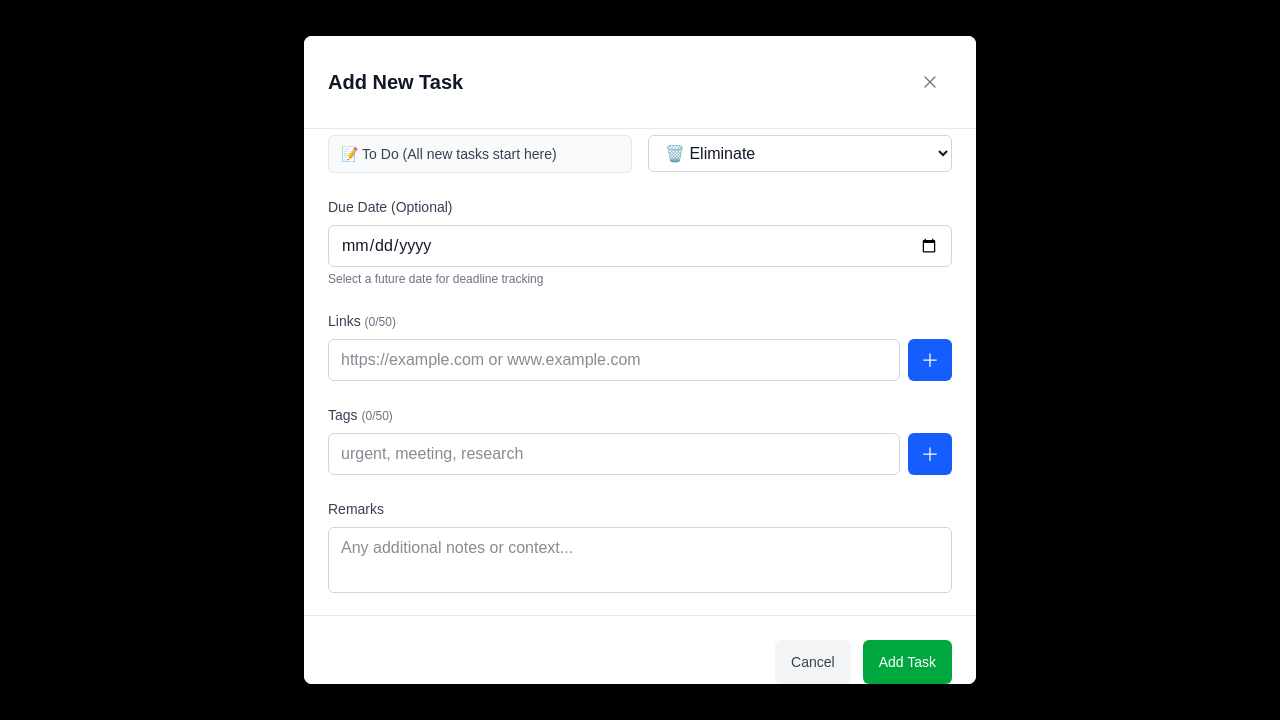
Scenario: AddTaskModal - Form Validation › Link Management › prevents duplicate links
The image size is (1280, 720).
(page scrolled)
# Add first link
Type "https://duplicate.com" into the field with placeholder "https://example.com or www.example.com" at (614, 360), box x1=328 y1=339 x2=900 y2=381
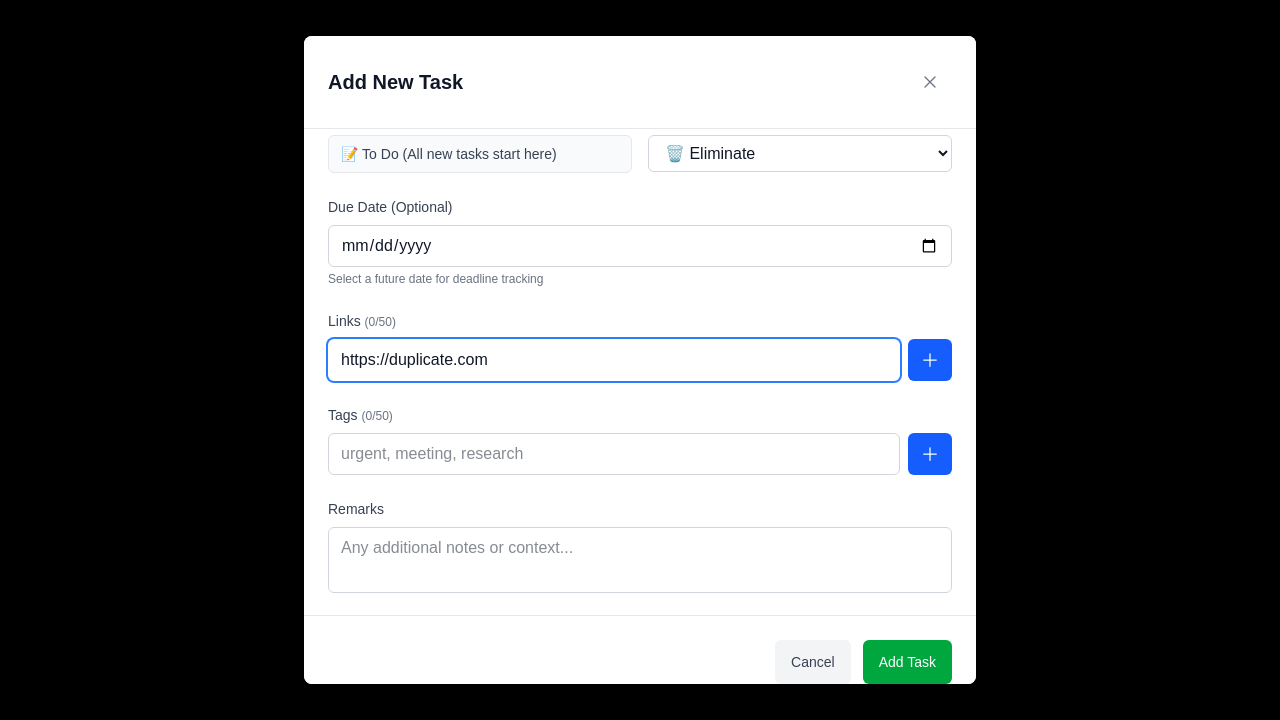
Click the button named "Add link to task" at (930, 360), box x1=908 y1=339 x2=952 y2=381
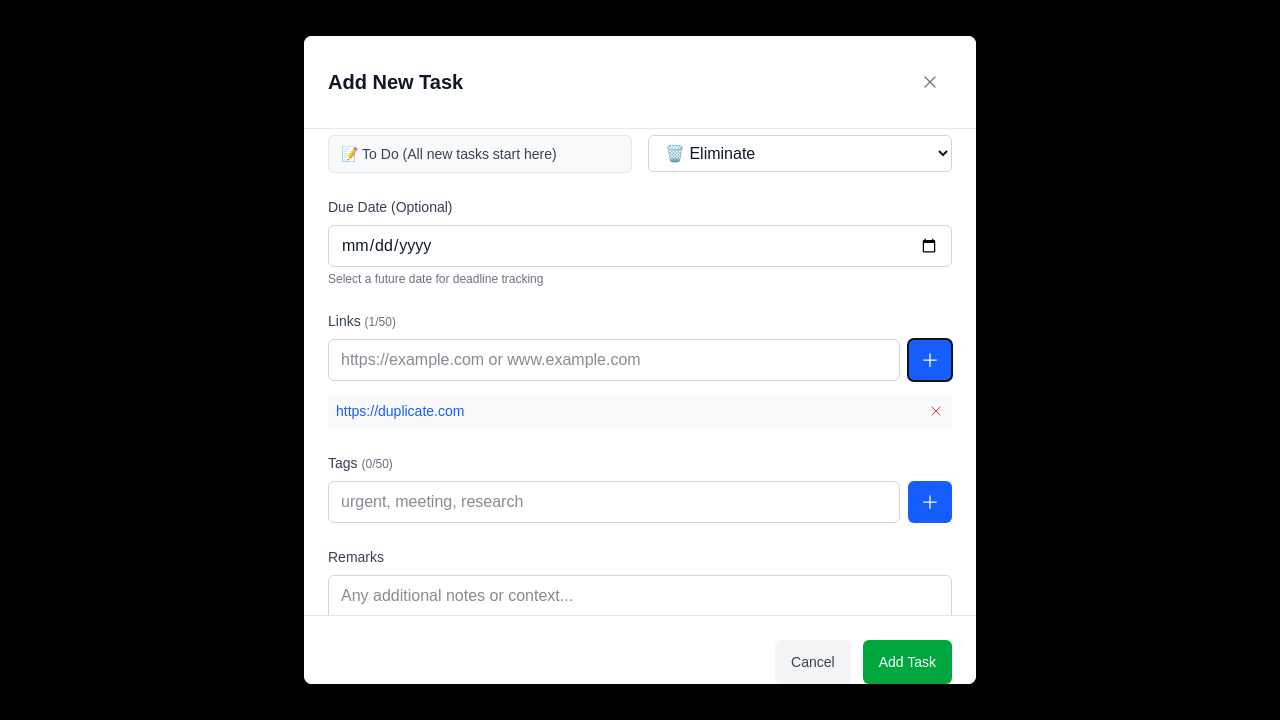
# Try to add same link
Type "https://duplicate.com" into the field with placeholder "https://example.com or www.example.com" at (614, 360), box x1=328 y1=339 x2=900 y2=381
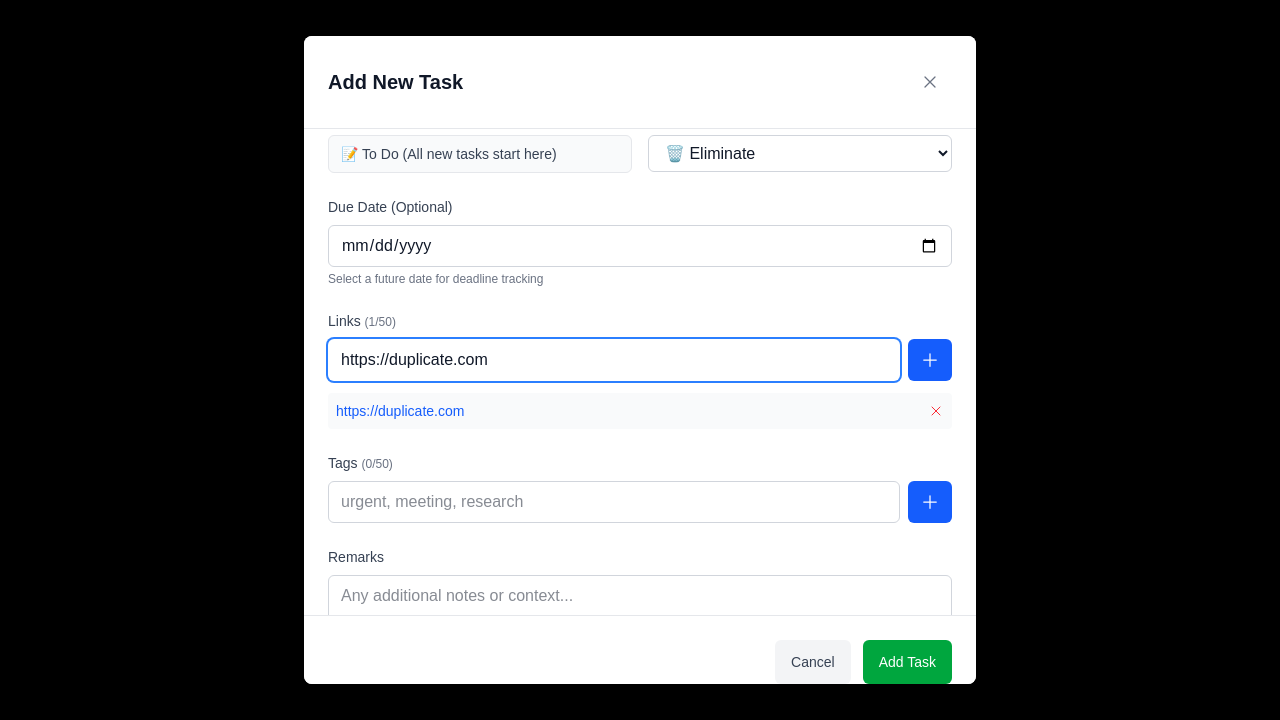
Click the button named "Add link to task" at (930, 360), box x1=908 y1=339 x2=952 y2=381
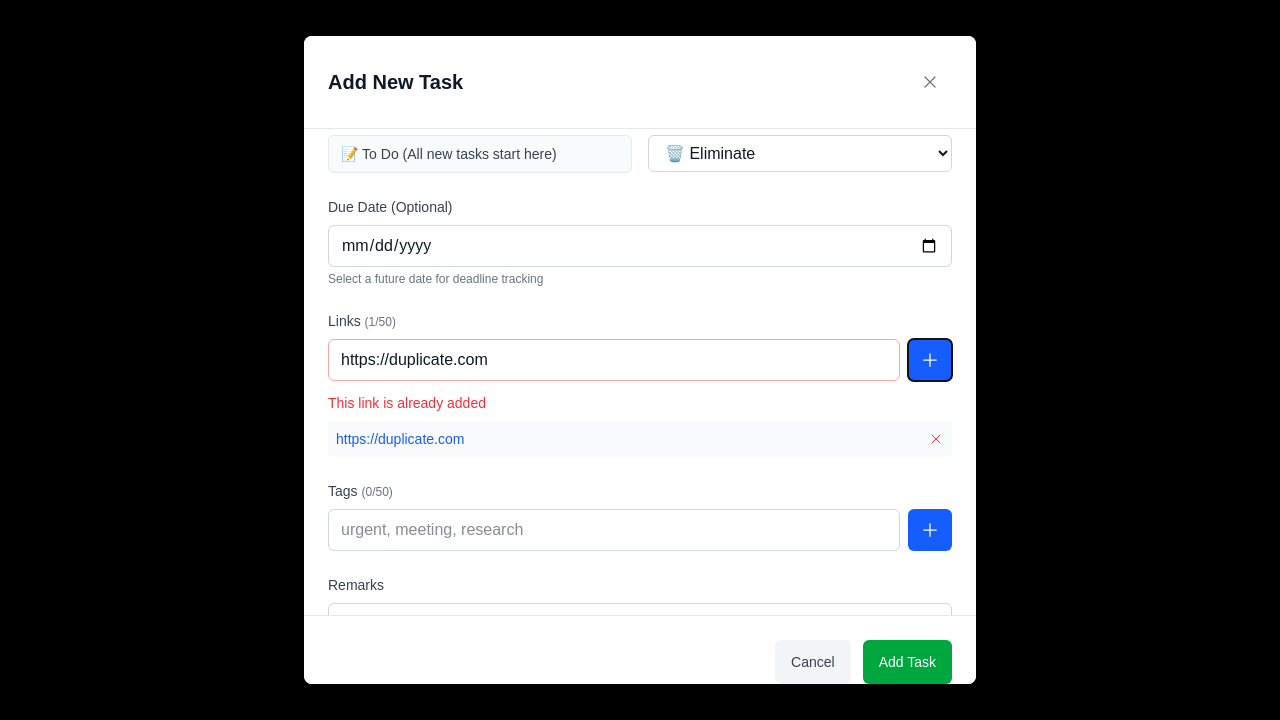
Result: the text "This link is already added" is shown at x1=328 y1=395 x2=486 y2=411
